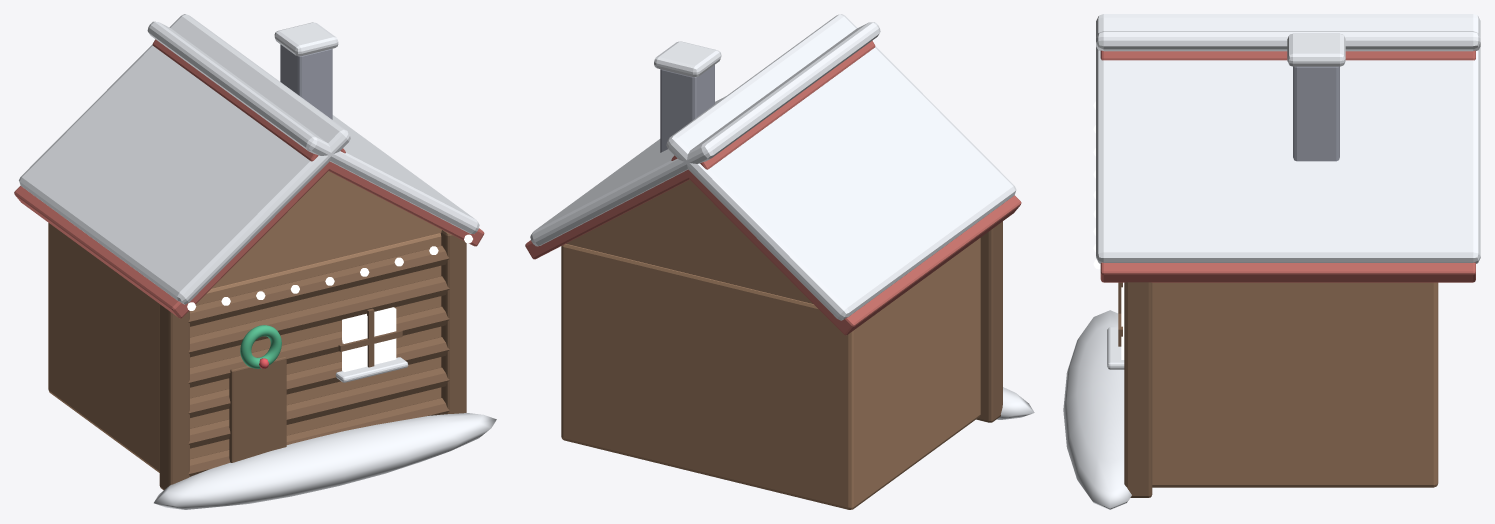
The model's file is house_a.glb.
The picture shows the model from 3 angles, left to right: view 1: azimuth 30°, elevation 25°; view 2: azimuth 150°, elevation 25°; view 3: azimuth 270°, elevation 25°; orthographic projection. The views are drawn at different scales.
Visible parts, largest first — view 1: house_a_mesh; view 2: house_a_mesh; view 3: house_a_mesh.
Part boxes in pixels (<box>): house_a_mesh: <box>14,14,496,509</box>; house_a_mesh: <box>525,14,1034,509</box>; house_a_mesh: <box>1063,14,1480,509</box>.
Bounding box in the file's own units: 4.96 × 5.05 × 4.45.
